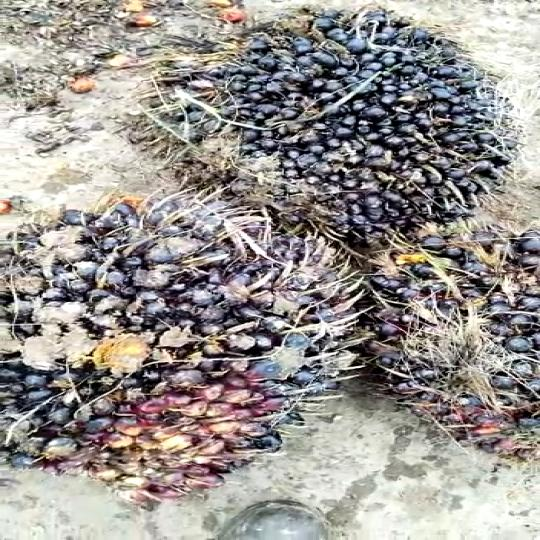mentah: (0, 182, 414, 499), (136, 5, 500, 236)
